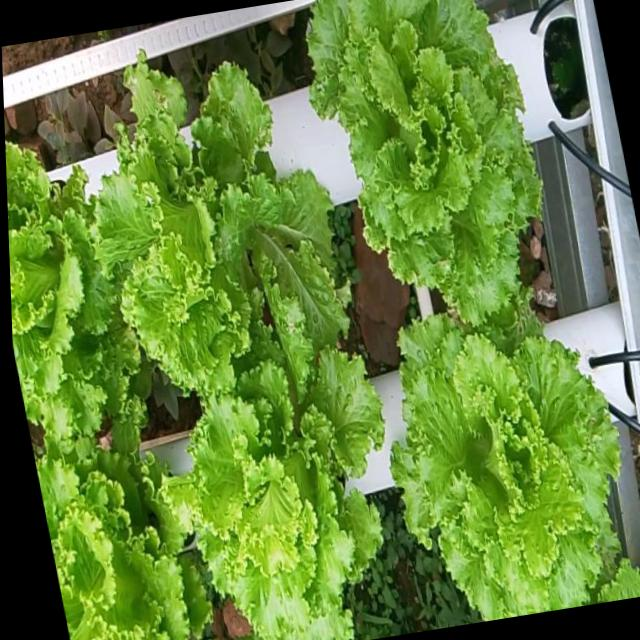Mature: (84, 54, 341, 394), (382, 312, 640, 621), (301, 0, 535, 326), (164, 329, 376, 640), (5, 133, 130, 426), (32, 428, 201, 640)
